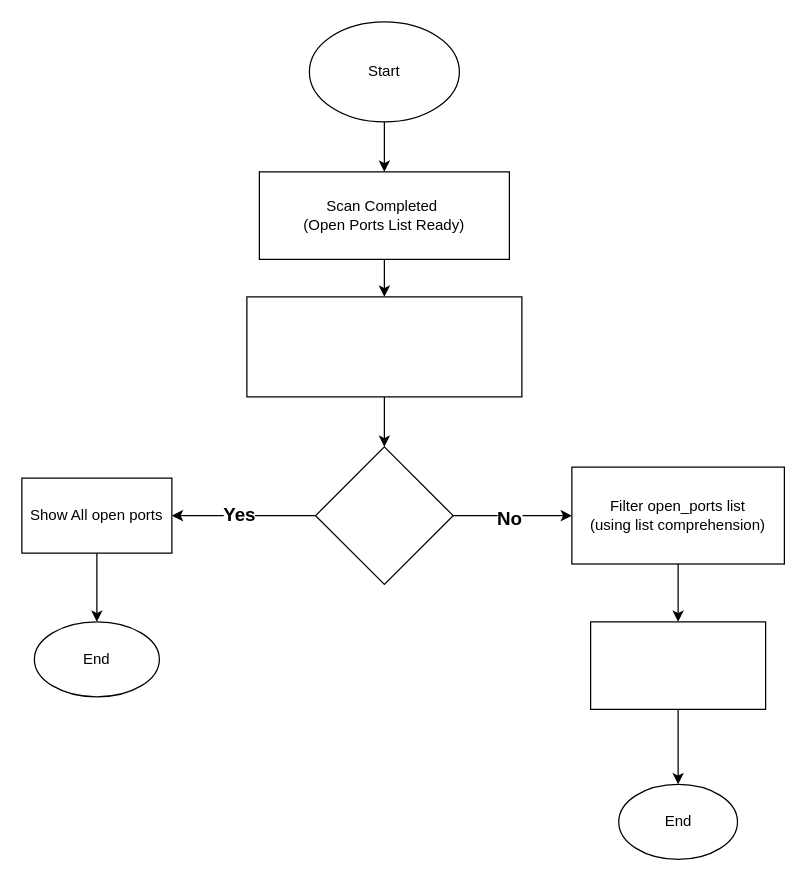
Some shapes in this 806 by 881 pixel diagram are drawn without their labels. Each missing label, with the centre of its shape:
"Ask User for Filter User Selects service filter (e.g., HTTP, SSH)" belongs at (x=384, y=346).
"Display filtered ports" belongs at (x=677, y=665).
"Is Filter Empty" belongs at (x=383, y=515).
